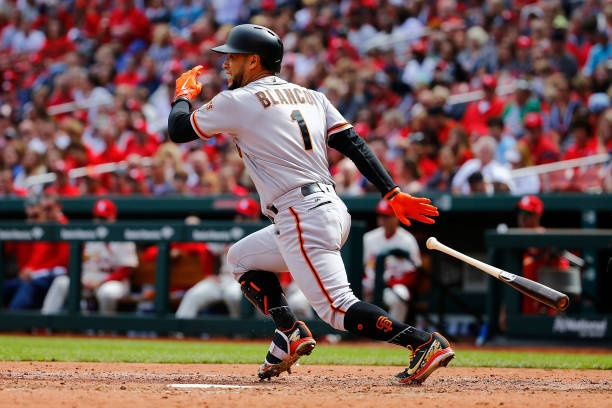bita: (427, 236, 571, 306)
